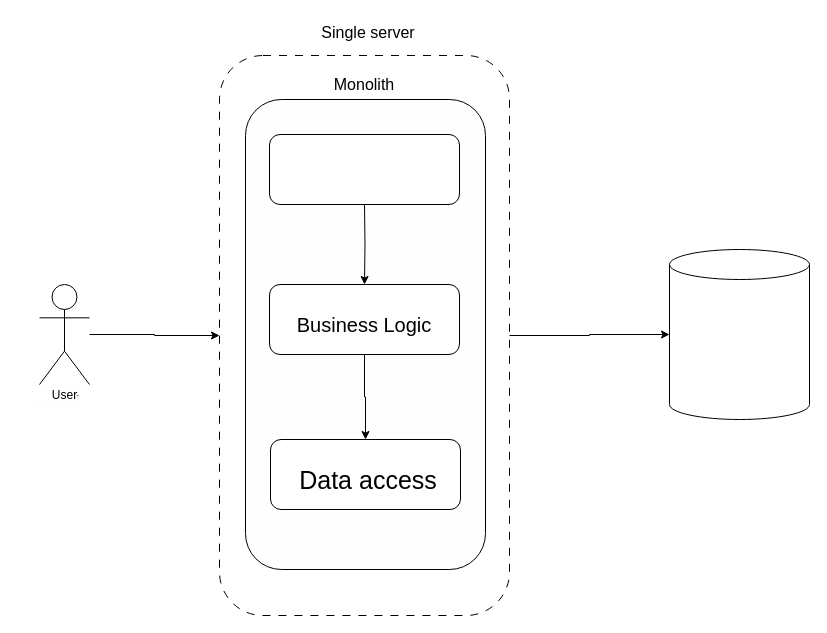
Some shapes in this 827 by 633 pixel diagram are drawn without their labels. The shapes that lost their labels are listed below. From the top down, each one's centre as x and y in pixels, then its label:
At pixel 364 169: "GUI".
At pixel 739 334: "Data store".
